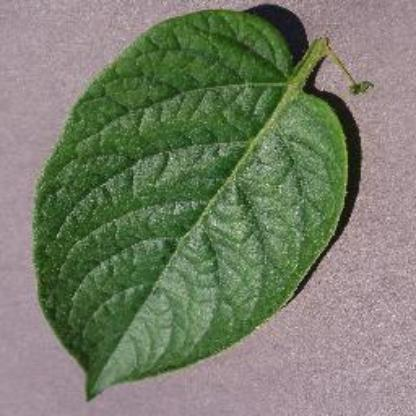Healthy-plant: (28, 8, 378, 400)
